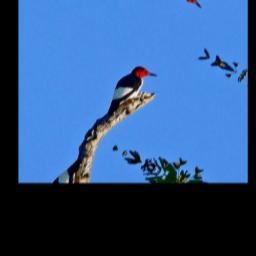Woodpecker: (86, 53, 165, 137)
